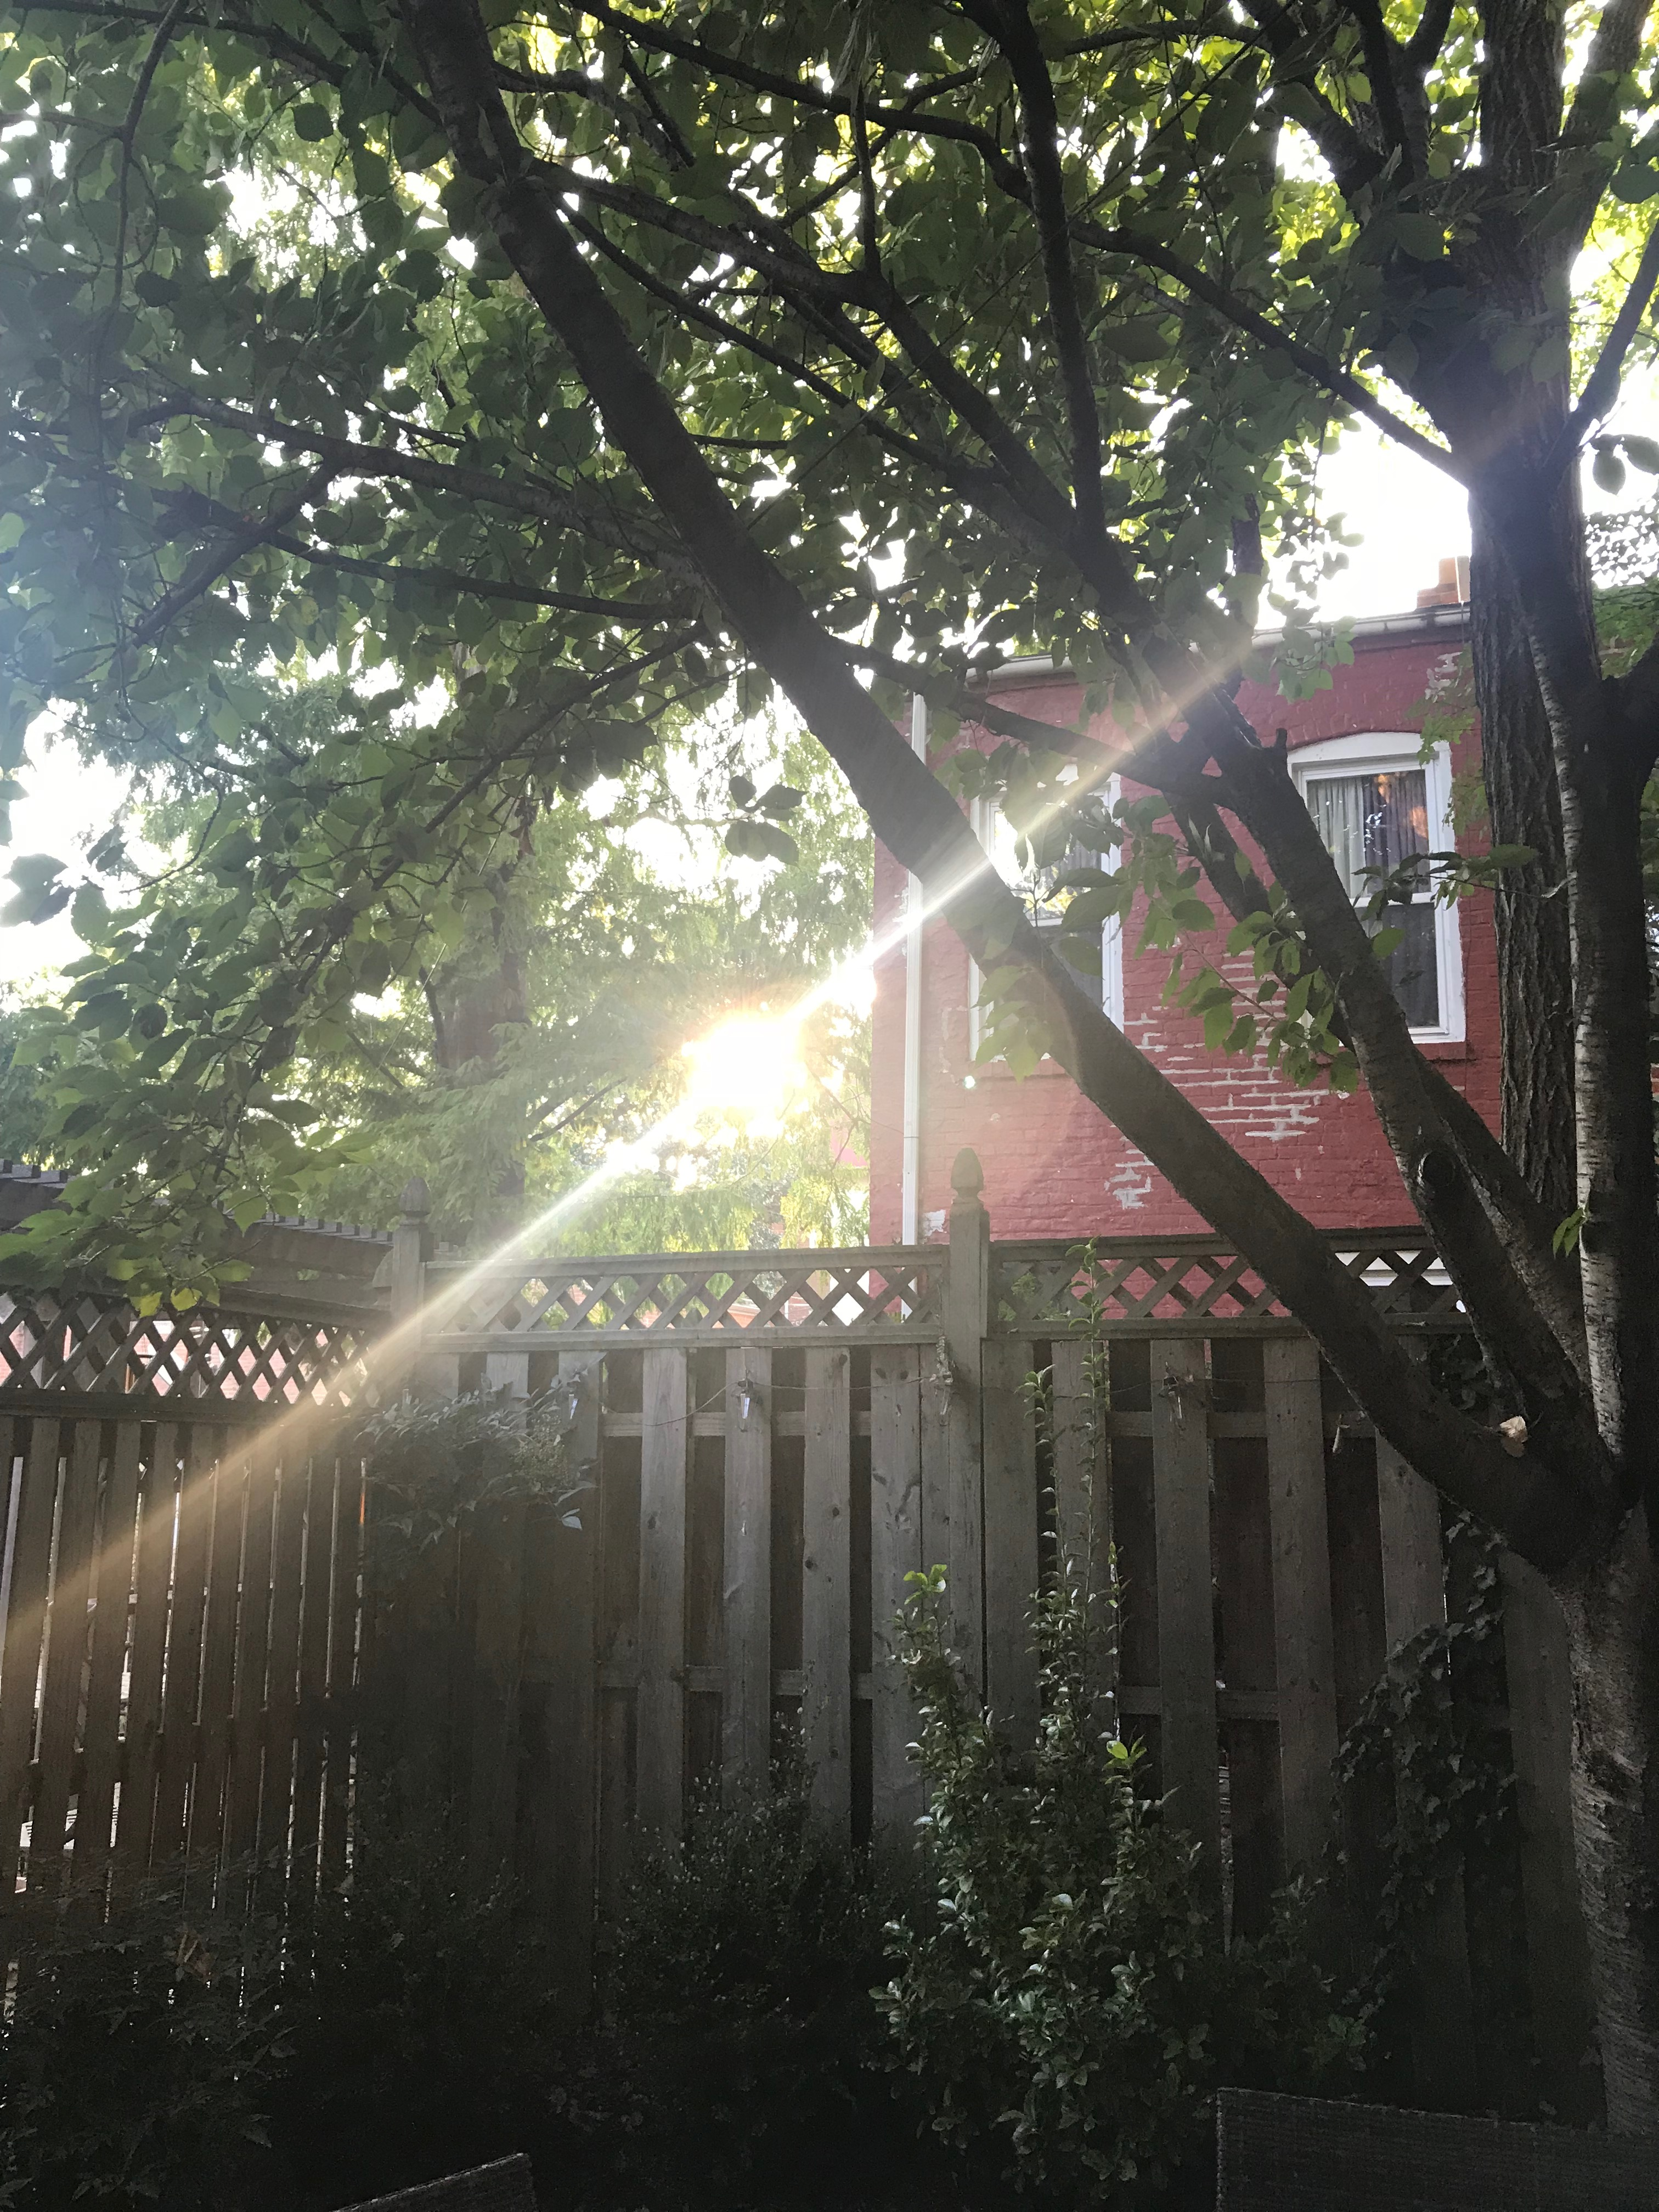flare: (964, 1075, 978, 1090)
